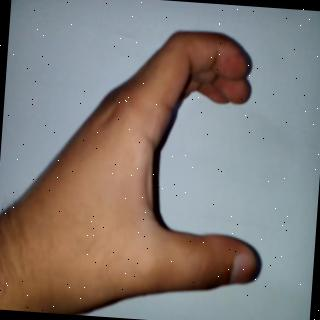C: (26, 14, 280, 301)
